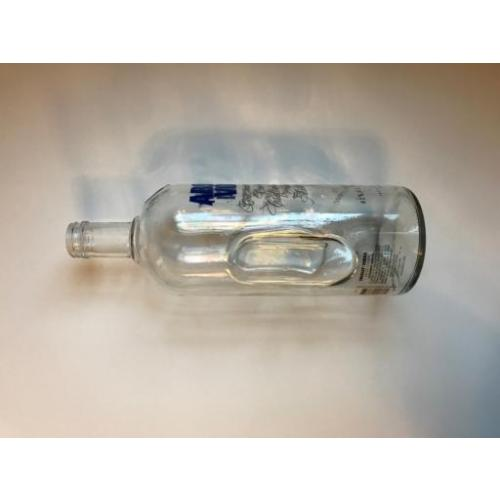glass: (68, 180, 427, 297)
